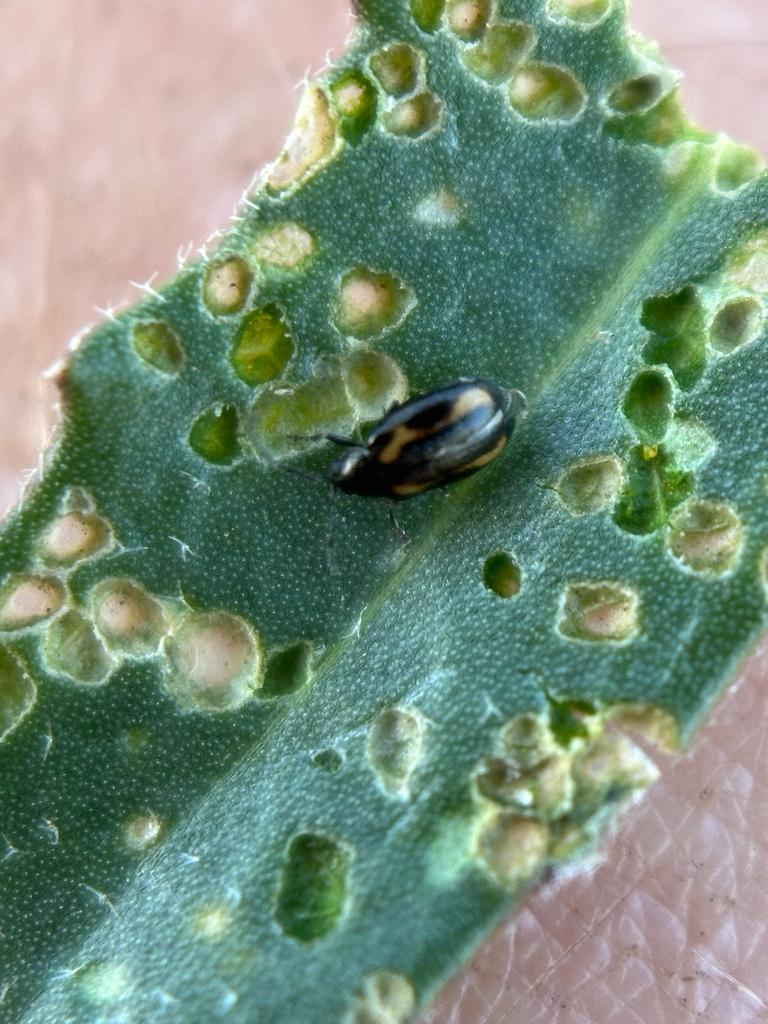flea_beetle: (252, 317, 566, 576)
